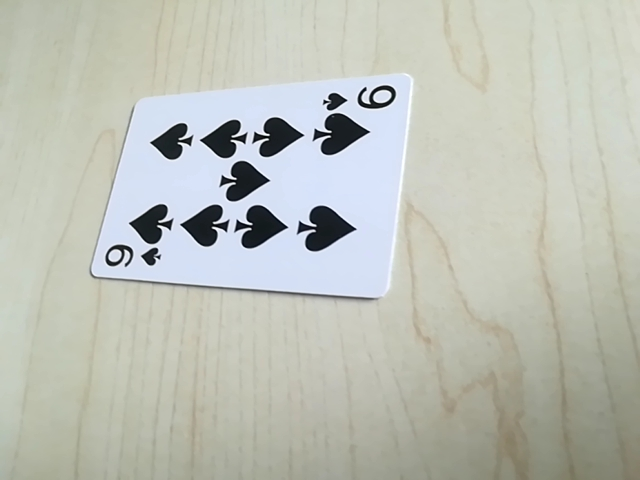ht 9: (318, 83, 403, 116), (96, 243, 166, 276)
